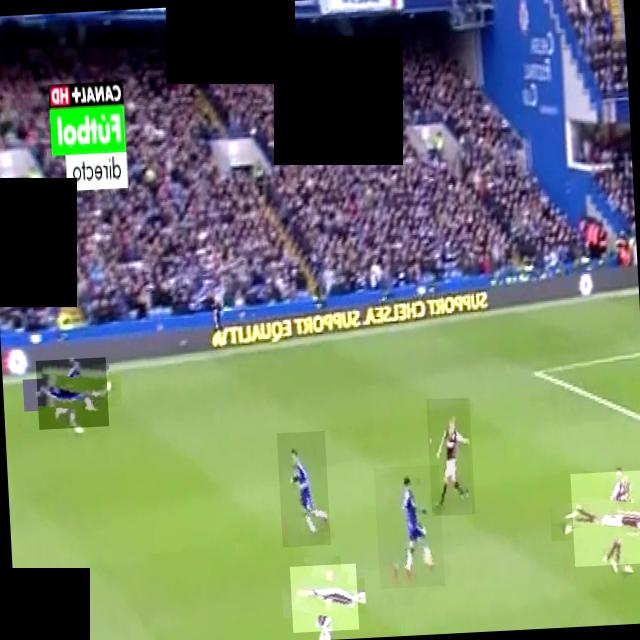soccer-player: (374, 465, 445, 589), (570, 470, 640, 567), (277, 431, 331, 547), (426, 398, 476, 516), (36, 357, 110, 430), (290, 564, 359, 632)
